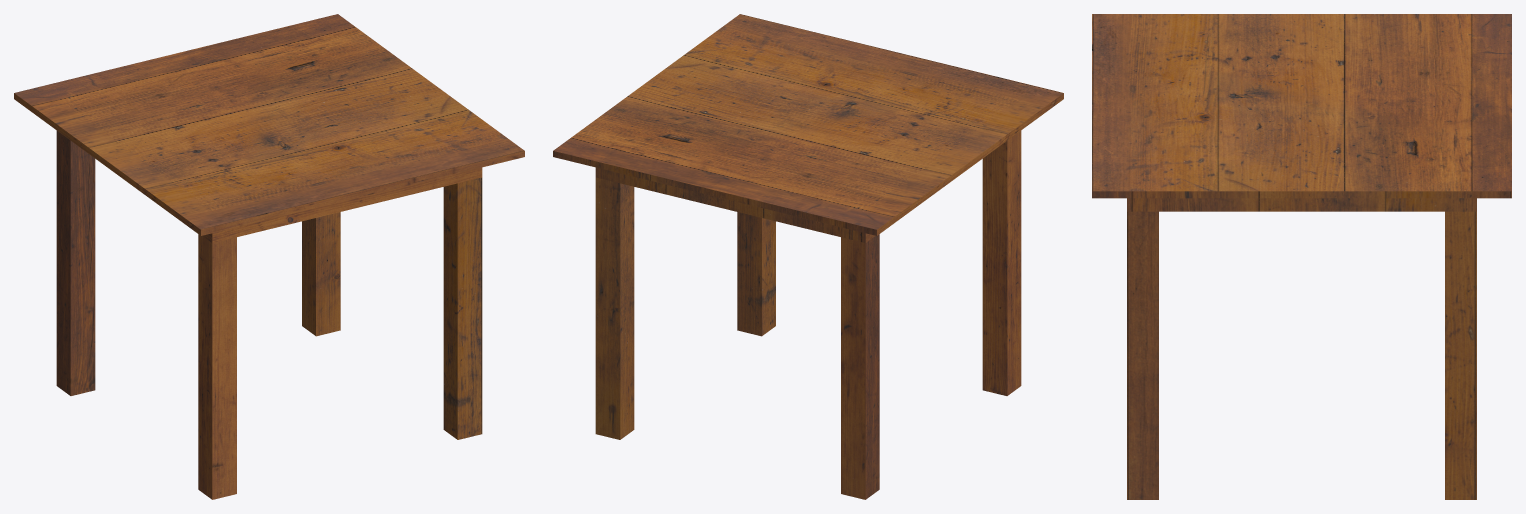
Rendered from table_small_01.glb.
3 views of the same model, side by side, from view 1: azimuth 30°, elevation 25°; view 2: azimuth 150°, elevation 25°; view 3: azimuth 270°, elevation 25° (orthographic). The views are drawn at different scales.
Visible parts, largest first — view 1: Cube; view 2: Cube; view 3: Cube.
Boxes of the visible parts, x1,y1,x2,y2 form: Cube: [14, 14, 524, 499]; Cube: [553, 14, 1063, 499]; Cube: [1092, 14, 1511, 499].
Size of the model in its own units: 13.2 by 11.22 by 13.2.
1 material, 1 textured.
